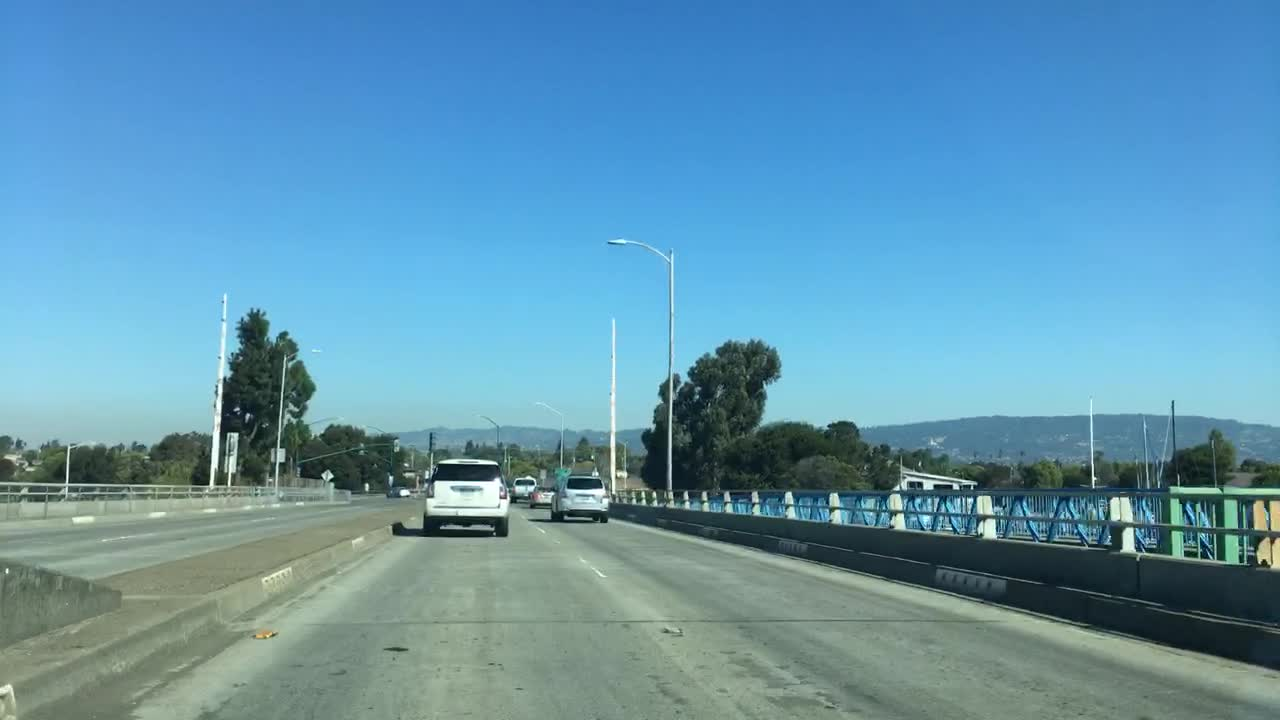car: (421, 456, 510, 537), (550, 471, 609, 523), (509, 475, 537, 502), (527, 483, 556, 508), (385, 484, 409, 498)
person: (363, 479, 371, 495)
traffic light: (391, 438, 399, 452), (357, 442, 364, 453)
traffic sign: (268, 446, 286, 462), (320, 467, 335, 481), (553, 465, 569, 477), (538, 467, 546, 480), (590, 468, 600, 475)
